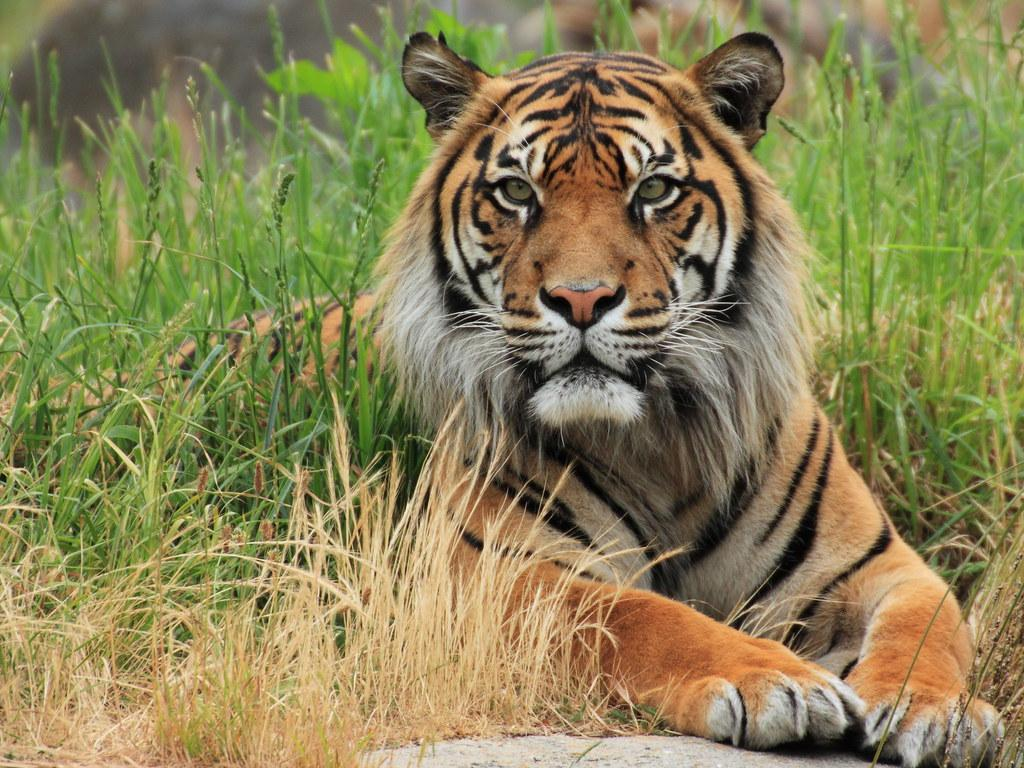tiger: (7, 26, 1006, 766)
